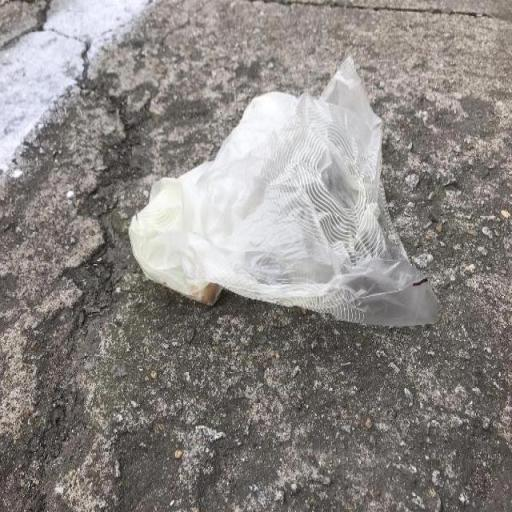plastic-bag: (129, 50, 442, 330)
